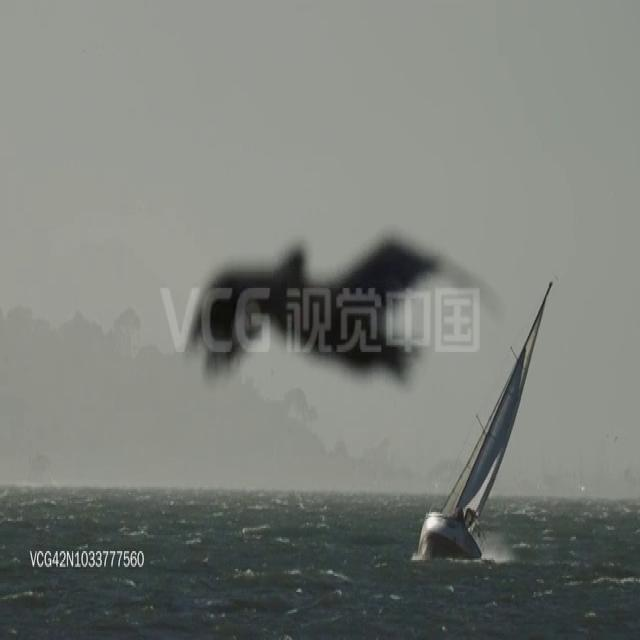sailboat: (405, 279, 557, 561)
